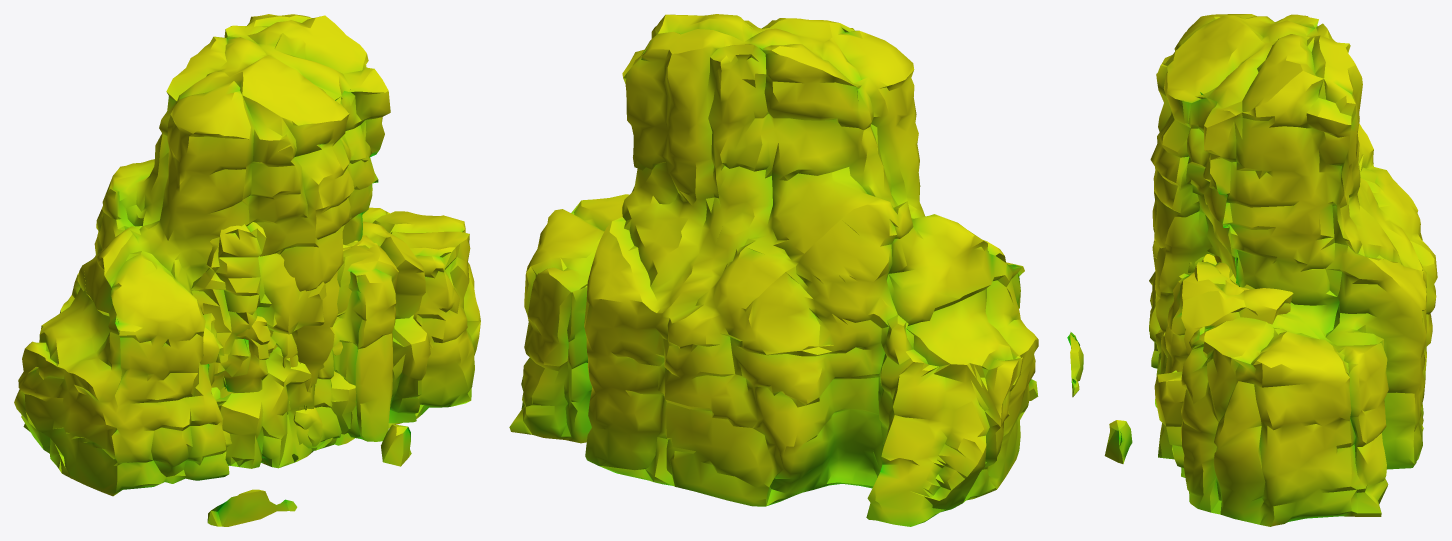
The model's file is crags-b.glb.
The picture shows the model from 3 angles, left to right: view 1: azimuth 30°, elevation 25°; view 2: azimuth 150°, elevation 25°; view 3: azimuth 270°, elevation 25°; orthographic projection. The views are drawn at different scales.
Visible parts, largest first — view 1: hero, cliff-c, cliff-a, cliff-b; view 2: hero; view 3: hero, cliff-c, cliff-a.
Boxes of the visible parts, x1=… form: hero: x1=14, y1=14, x2=480, y2=526; cliff-c: x1=190, y1=221, x2=430, y2=468; cliff-a: x1=200, y1=235, x2=398, y2=465; cliff-b: x1=211, y1=316, x2=336, y2=462; hero: x1=509, y1=14, x2=1038, y2=526; hero: x1=1067, y1=14, x2=1437, y2=526; cliff-c: x1=1104, y1=241, x2=1293, y2=477; cliff-a: x1=1158, y1=254, x2=1249, y2=459.
Size of what is drawn, in the model's own units: 24.65 by 21.04 by 17.35.
